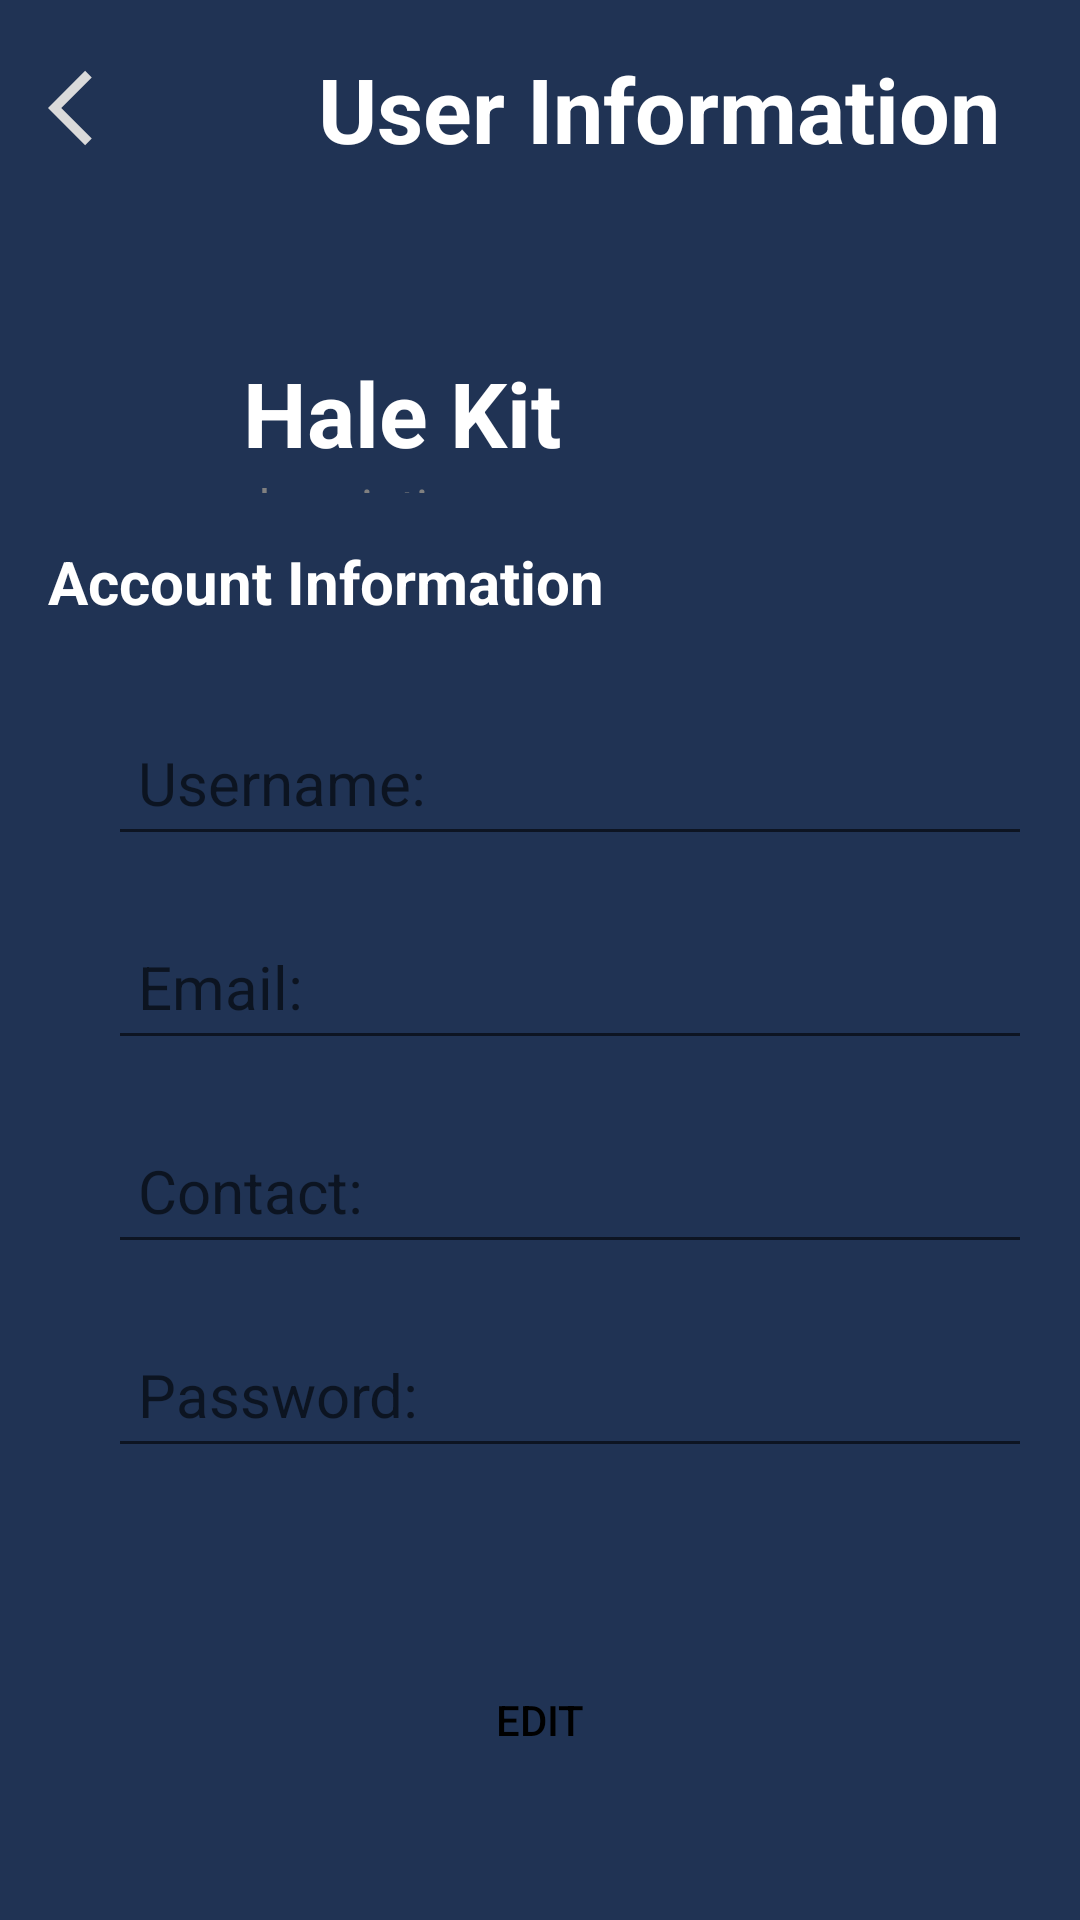

Icon bounding boxes for this 1080px x 1920px phone screenshot, format {"x1": x1, "y1": y1, "x2": x2, "y2": y2}:
arrow back: {"x1": 48, "y1": 71, "x2": 92, "y2": 145}
